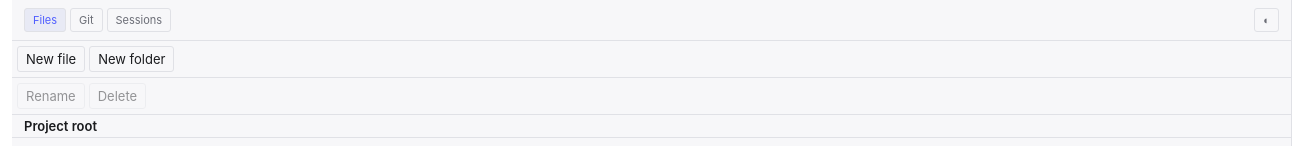
Test: Sidebar › switches to the Sessions tab and fetches sessions for the workspace path only once opened
The image size is (1304, 163).
Click the tab "Sessions": coordinates (139, 20) x1=106 y1=8 x2=171 y2=32
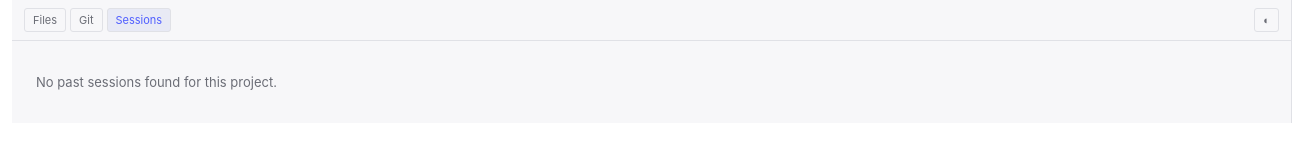
Result: the text "No past sessions found for this project." is shown at x1=36 y1=74 x2=277 y2=90
